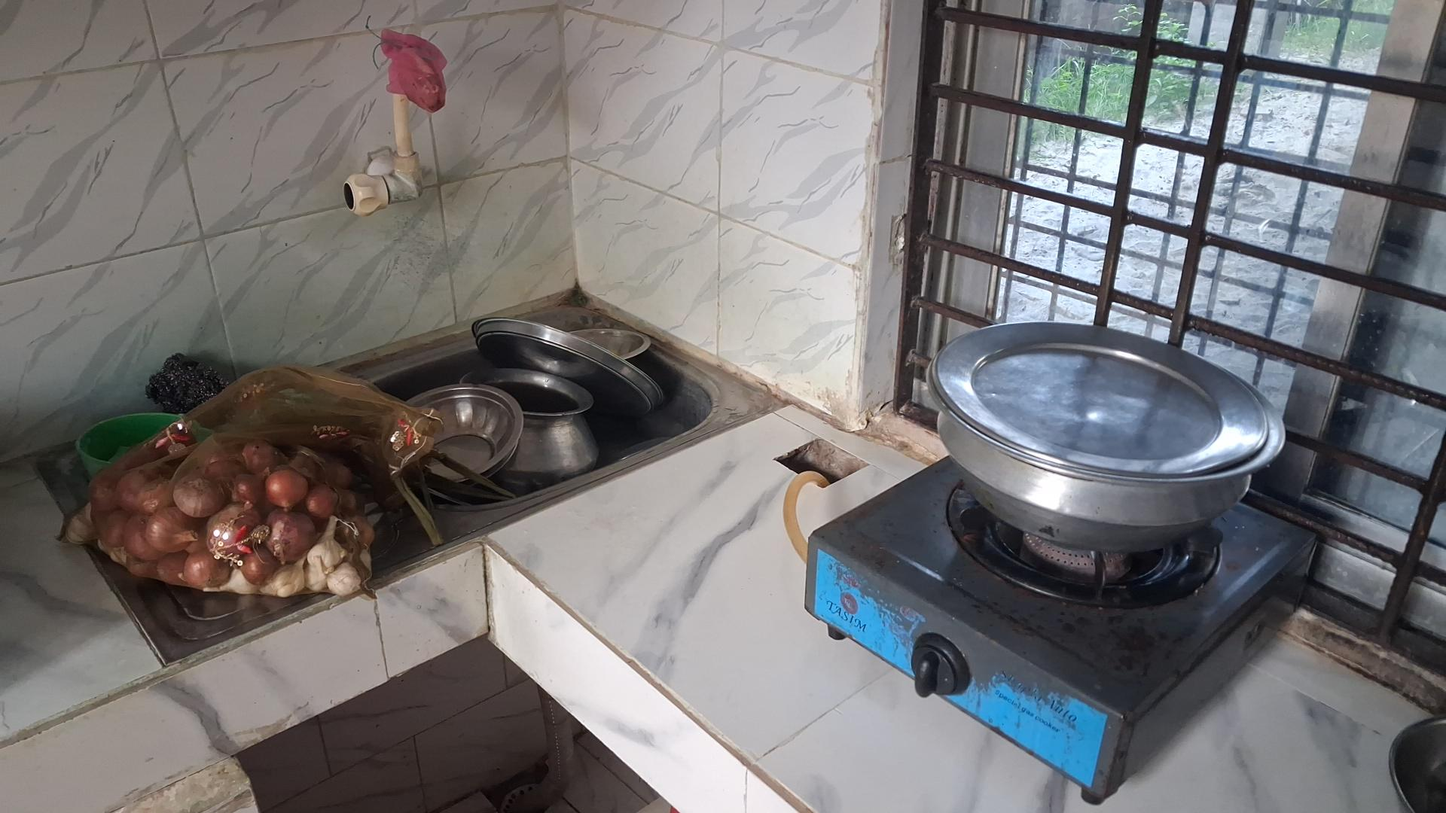Bowl: (401, 379, 516, 470)
Food: (79, 416, 384, 591)
Jar: (83, 403, 190, 469)
Pot: (937, 317, 1288, 558)
